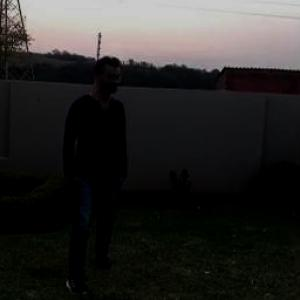follow: (57, 47, 126, 295)
